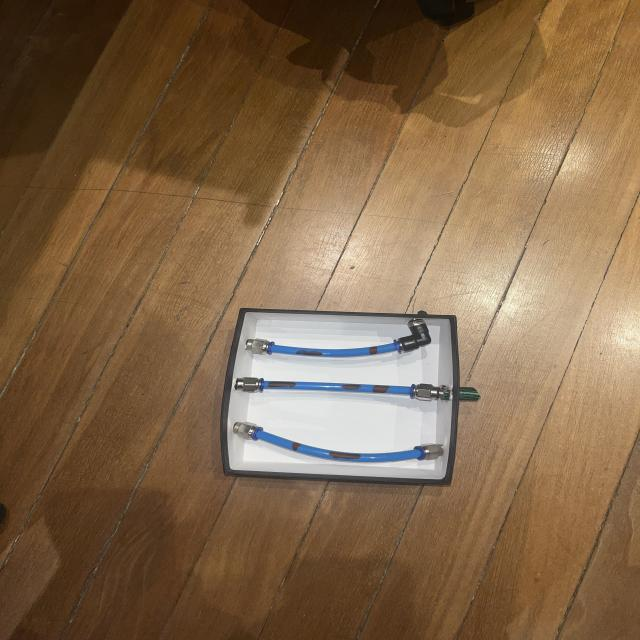hose_damage: (328, 451, 362, 460), (266, 380, 296, 388), (372, 384, 389, 394), (295, 350, 322, 356), (339, 384, 362, 391), (291, 442, 301, 452), (368, 347, 378, 355)
